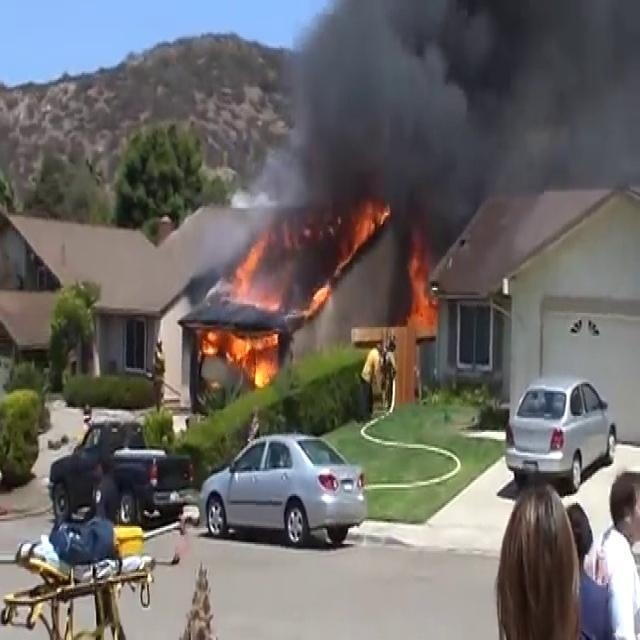Fire: (194, 320, 282, 390), (218, 244, 283, 316), (403, 248, 438, 344), (304, 272, 332, 318)
Smoke: (234, 0, 640, 260)
